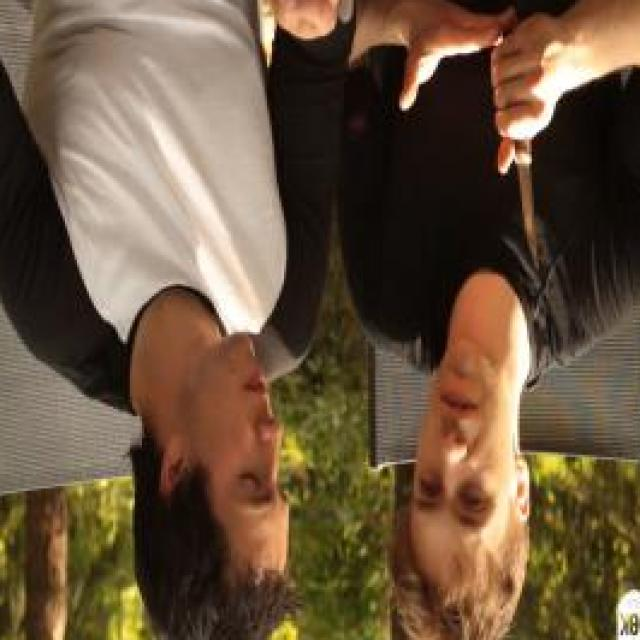knife: (492, 96, 546, 286)
